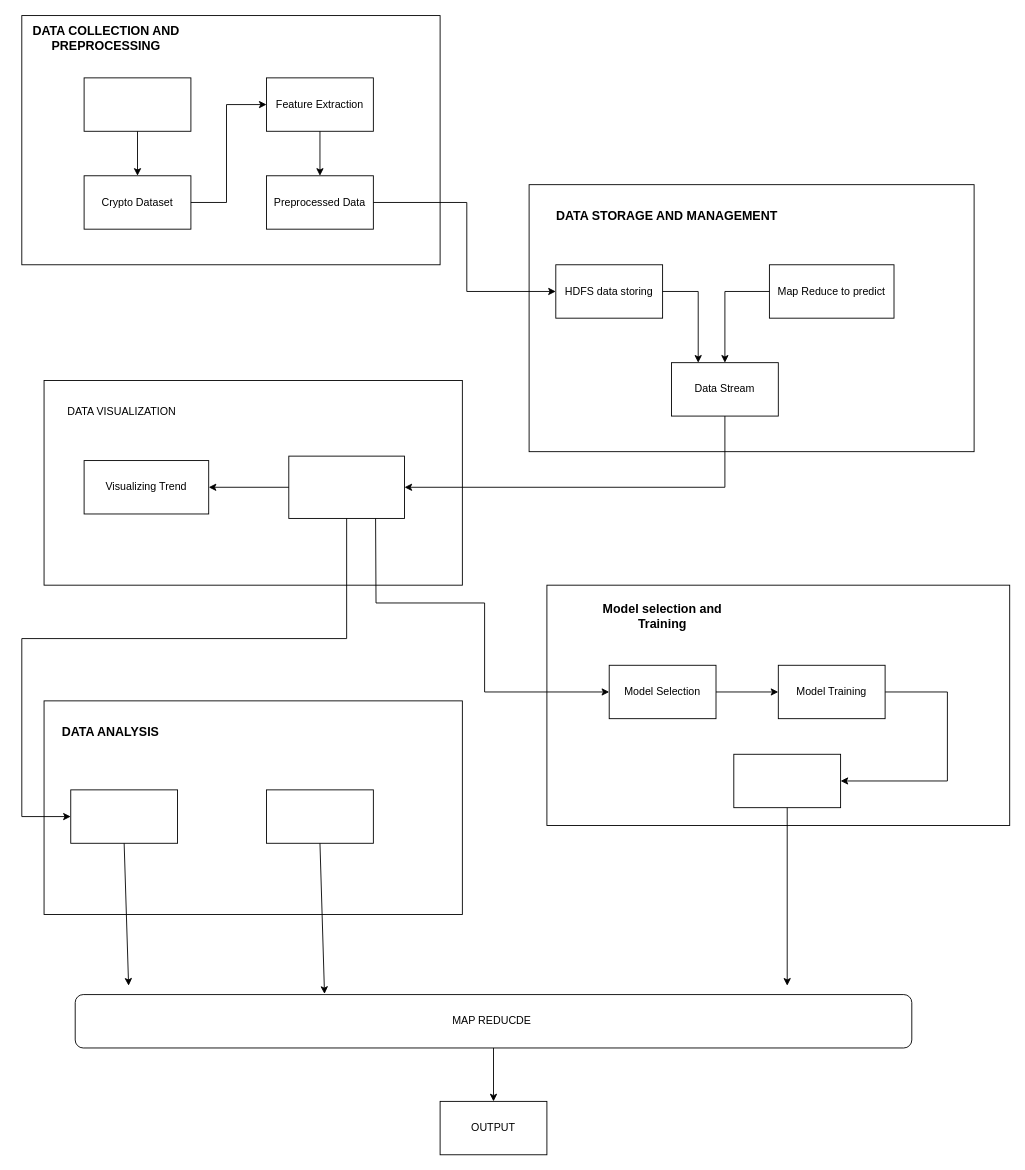
Image size: 1025x1170. Some labels were removed from this diagram. The shapes that lost their labels are listed below. From the top down, each one's centre as x and y in pixels, then its label:
At (137,104): "Kaggle".
At (346,486): "Normalized Dataset".
At (787,780): "Model Evaluation".
At (124,816): "Dataset from HDFS".
At (319,816): "MapReducer for predicting price".
